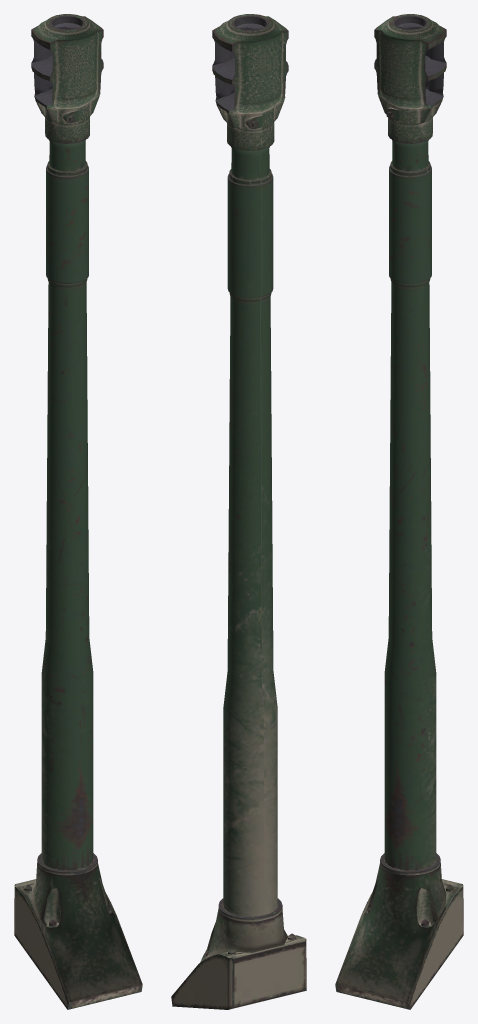
File: Gun_01.glb
The picture shows the model from 3 angles, left to right: view 1: azimuth 30°, elevation 25°; view 2: azimuth 210°, elevation 25°; view 3: azimuth 330°, elevation 25°; orthographic projection. The views are drawn at different scales.
Parts seen in each view (by area): view 1: set_0_group_0; view 2: set_0_group_0; view 3: set_0_group_0.
Part boxes in pixels (x1,y1,x2,y2): set_0_group_0: (14,14,142,1009); set_0_group_0: (171,14,306,1009); set_0_group_0: (335,14,463,1009).
Size of the model in its own units: 0.4668 by 5.72 by 0.6197.
1 material, 1 textured.
